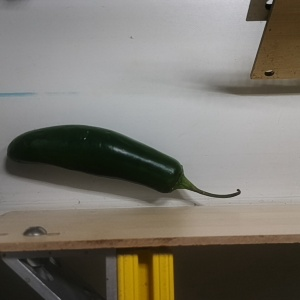Cut Point: (156, 157, 195, 197)
